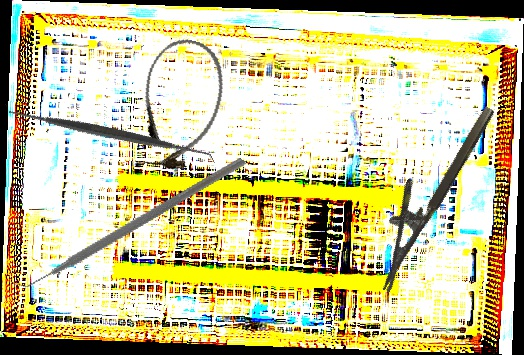Cannula: (125, 31, 235, 178)
Chopper: (3, 86, 248, 355)
Needle Holder: (352, 91, 498, 293)
Spatula Surgical: (4, 29, 216, 238)
